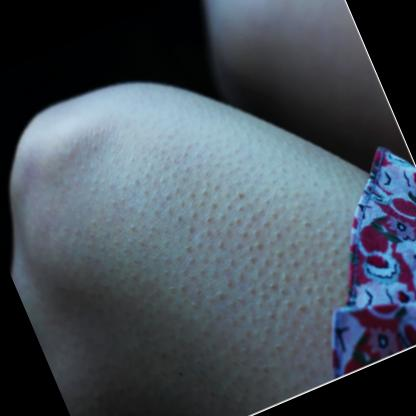Chicken Skin: (92, 92, 344, 392)
